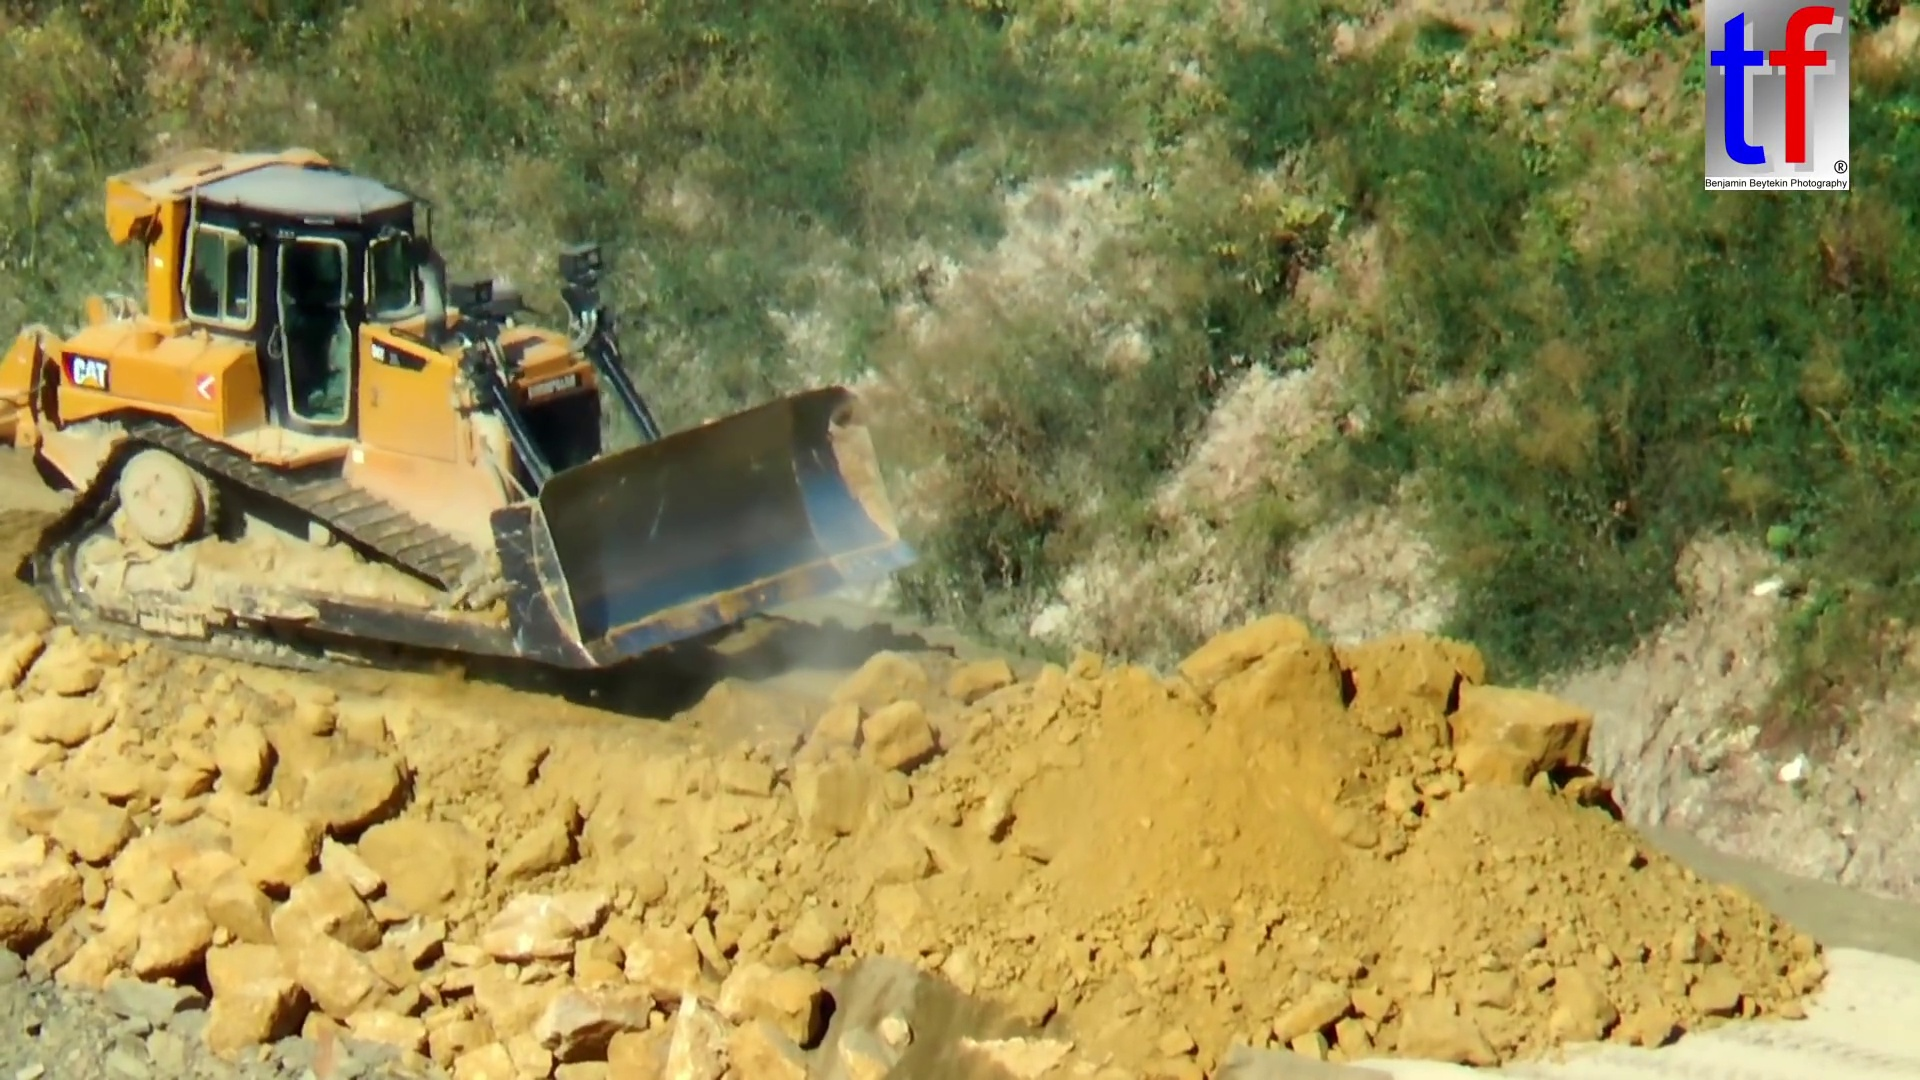bulldozer: (7, 146, 923, 683)
